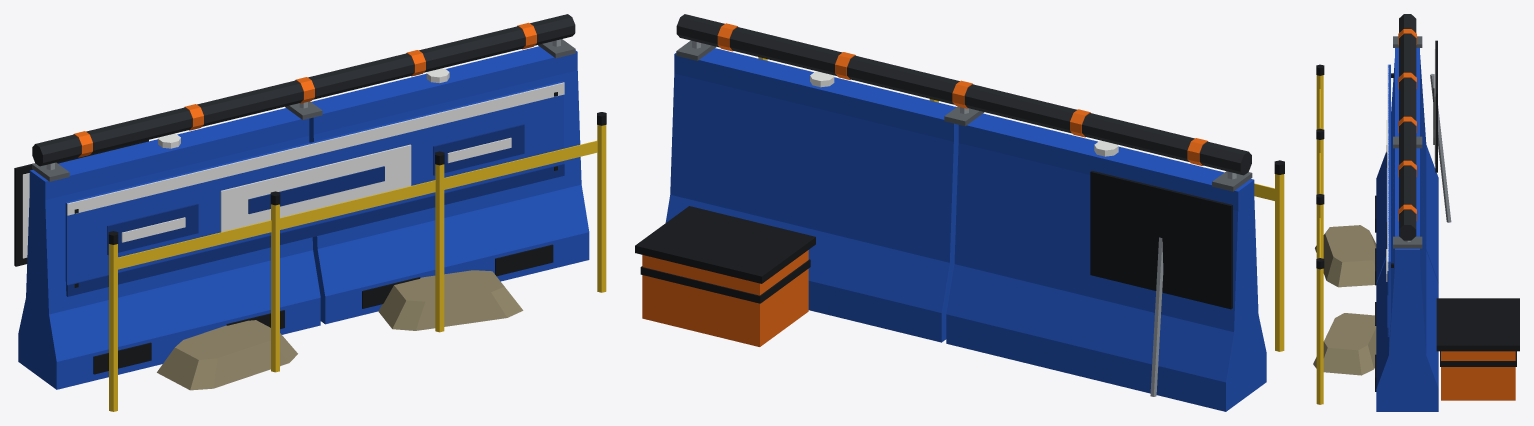
The model's file is pit_wall.glb.
3 views of the same model, side by side, from view 1: azimuth 30°, elevation 25°; view 2: azimuth 150°, elevation 25°; view 3: azimuth 270°, elevation 25° (orthographic). The views are drawn at different scales.
Parts seen in each view (by area): view 1: Stand_PitWall; view 2: Stand_PitWall; view 3: Stand_PitWall.
Part boxes in pixels (x1,y1,x2,y2): Stand_PitWall: (14, 14, 606, 411); Stand_PitWall: (635, 14, 1284, 411); Stand_PitWall: (1313, 14, 1519, 411).
Size of the model in its own units: 2.42 by 0.9943 by 0.9946.
